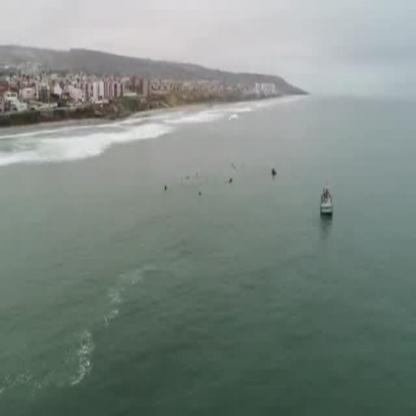Boat: (314, 186, 338, 216)
